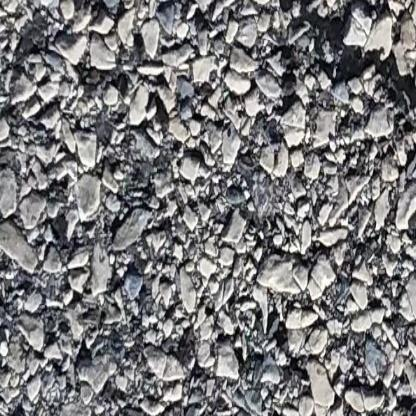Cracks: (268, 0, 416, 125)
